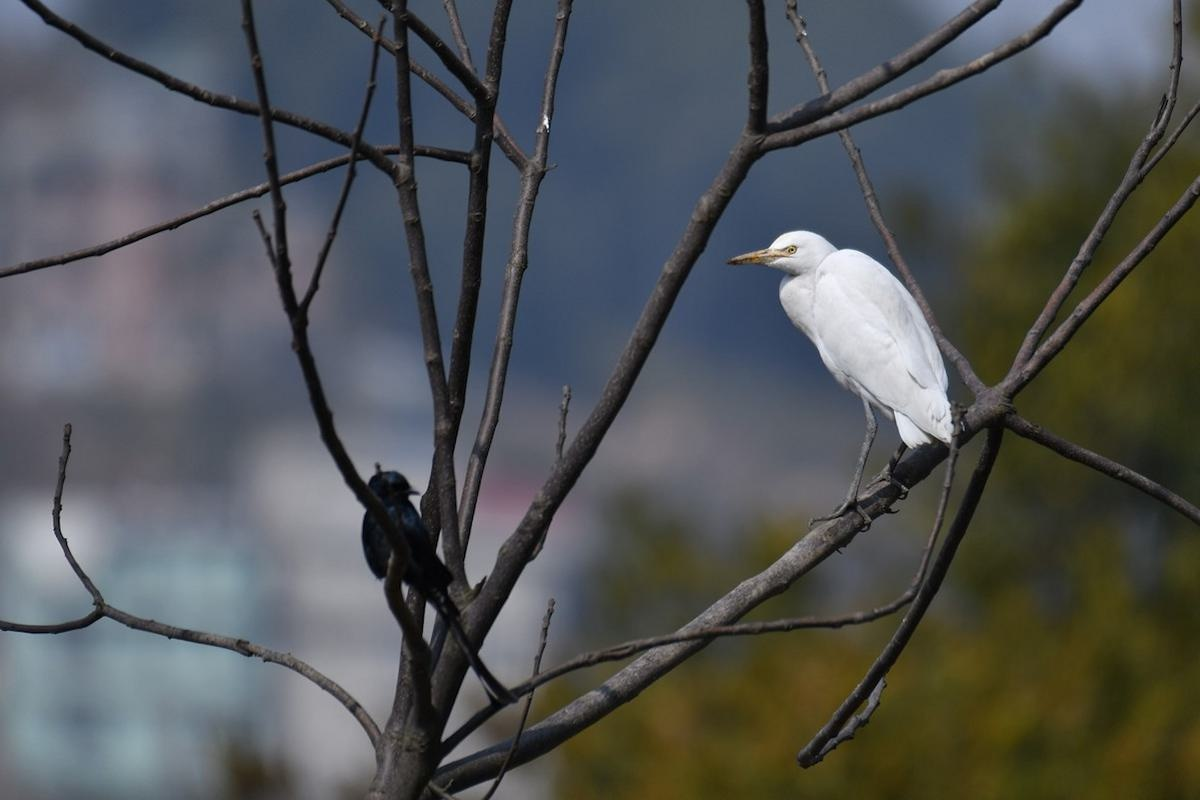egret: (739, 211, 974, 490)
